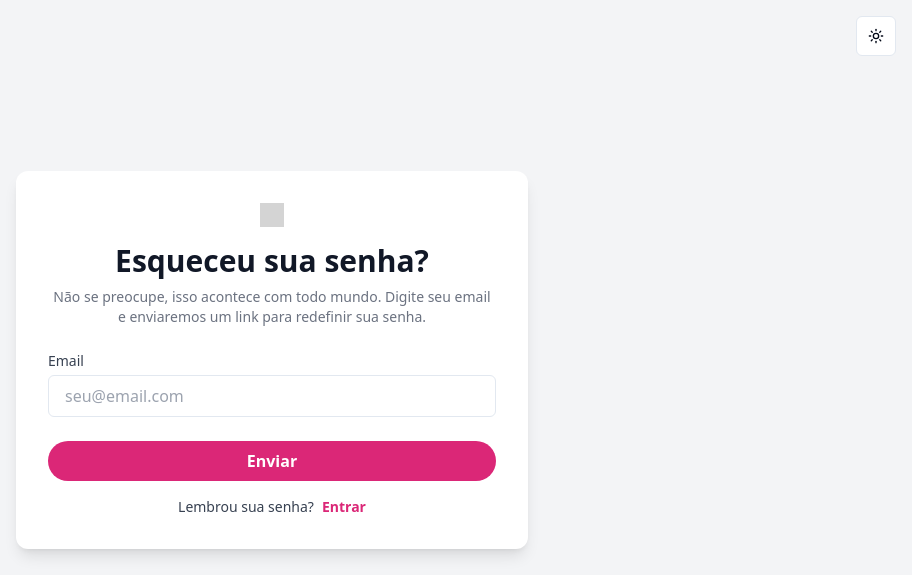
Test: ForgotPassword › Form Interactions › submits form with email value
Type "test@example.com" into the field labelled "Email". click: (272, 396)
box: 48,375 -> 496,417
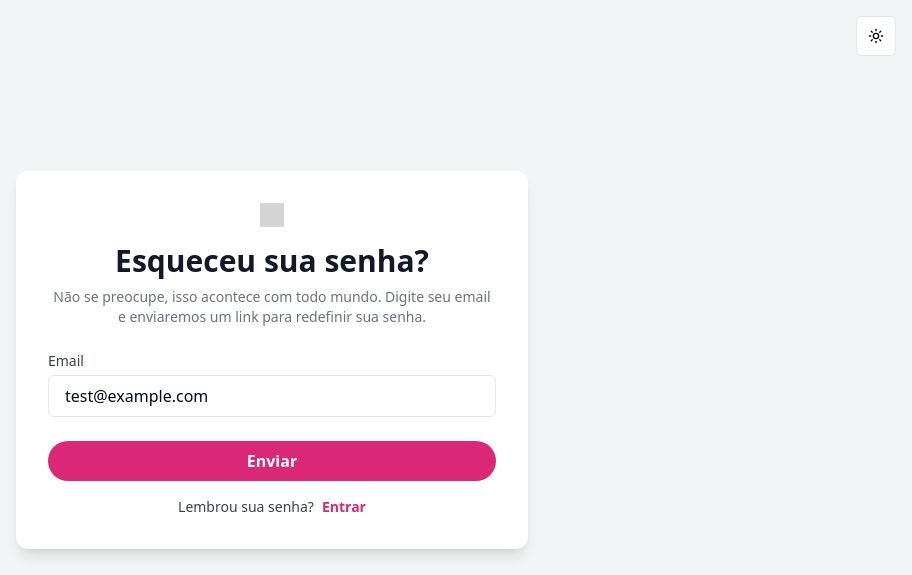
Click the button "Enviar". click: click(272, 461)
box: 48,441 -> 496,481
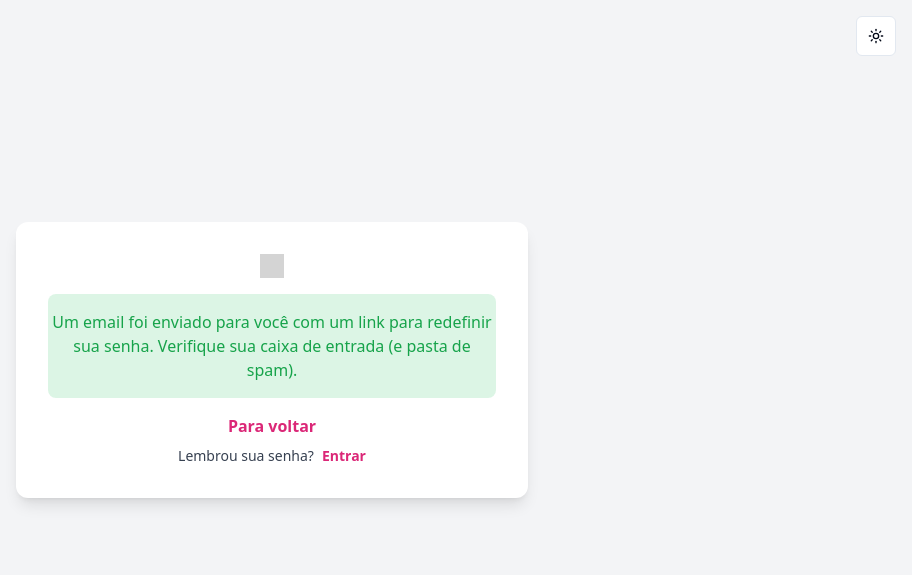
Result: the text "Verifique sua caixa de entrada (e pasta de spam)" is shown at 52,311 -> 492,381
